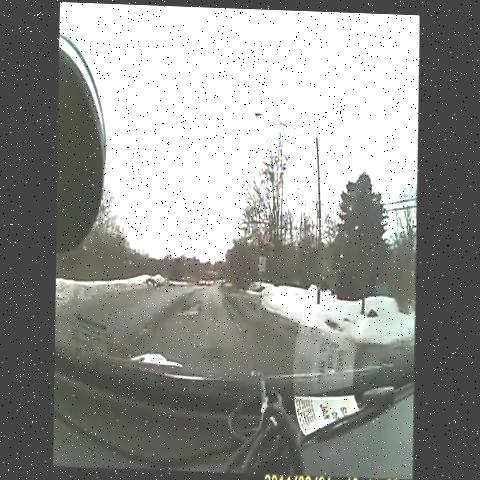pothole: (175, 289, 211, 327), (221, 291, 246, 337), (134, 312, 162, 343), (205, 338, 229, 370)
